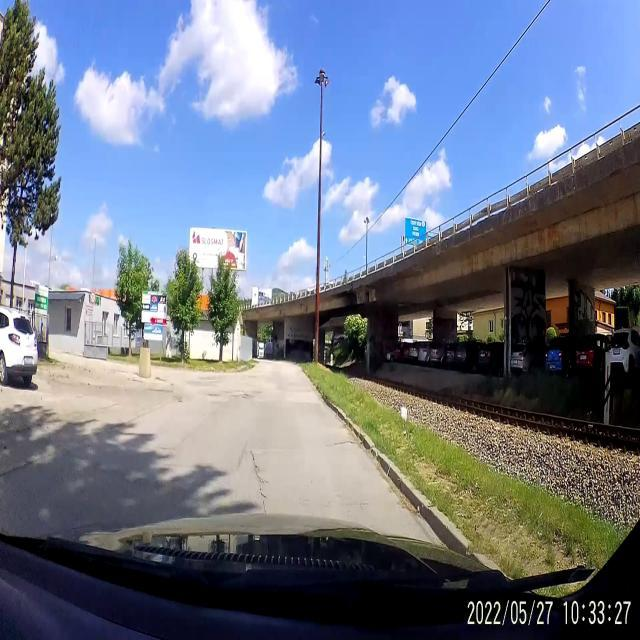Pothole: (250, 448, 269, 508), (328, 437, 356, 448), (240, 389, 258, 402), (206, 388, 222, 401), (155, 374, 169, 386)
